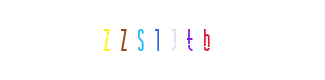1: (122, 0, 202, 80)
B: (149, 0, 229, 80)
J: (126, 0, 206, 80)
S: (111, 0, 191, 80)
T: (131, 0, 211, 80)
Z: (66, 0, 146, 80), (107, 0, 187, 80)
